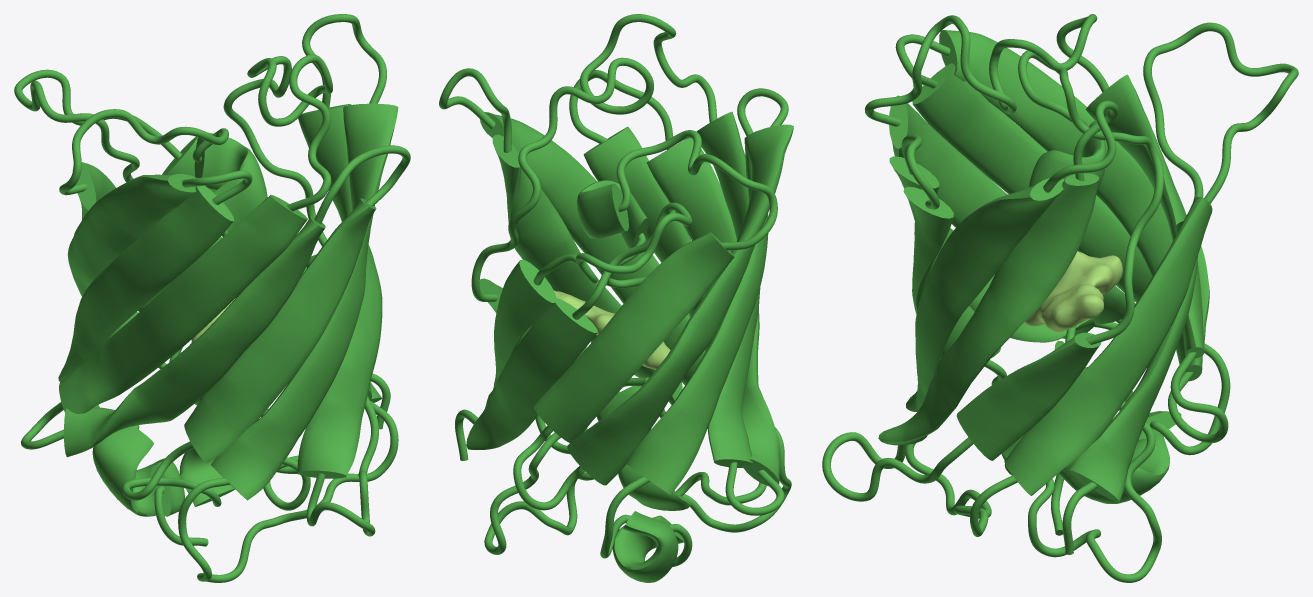
The model's file is gfp.glb.
3 renders of one model, left to right at view 1: azimuth 30°, elevation 25°; view 2: azimuth 150°, elevation 25°; view 3: azimuth 270°, elevation 25°, orthographic. The views are drawn at different scales.
Parts seen in each view (by area): view 1: GFP_1EMA; view 2: GFP_1EMA; view 3: GFP_1EMA.
Boxes of the visible parts, <box> form: GFP_1EMA: <box>14,14,410,582</box>; GFP_1EMA: <box>439,14,793,582</box>; GFP_1EMA: <box>822,14,1298,582</box>.
Bounding box in the file's own units: 0.3436 × 0.4843 × 0.3837.
